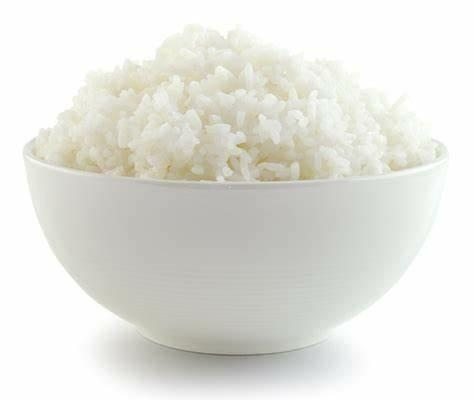WhiteRice: (29, 20, 438, 180)
